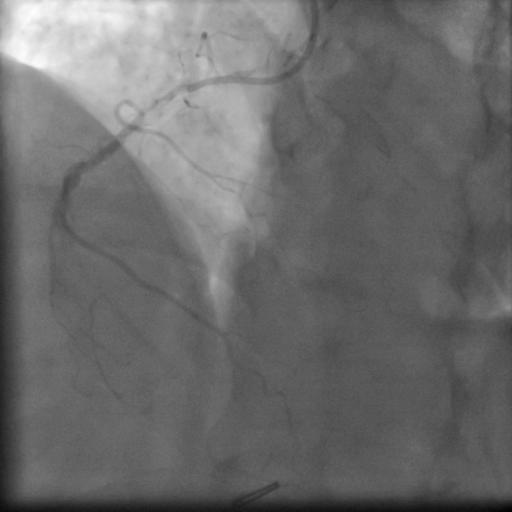Stenosis: (136, 90, 177, 117)
